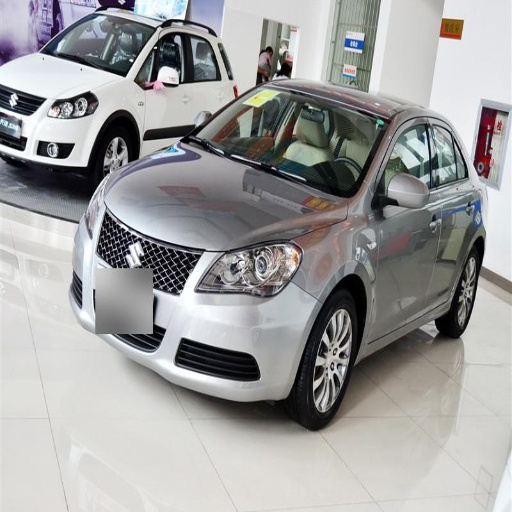front_bumper: (69, 216, 322, 401), (2, 87, 104, 165)
front_glass: (185, 86, 387, 196), (43, 14, 154, 74)
front_left_door: (373, 115, 442, 335), (143, 28, 190, 129)
front_left_light: (196, 238, 303, 298)
front_right_door: (3, 394, 38, 473)
